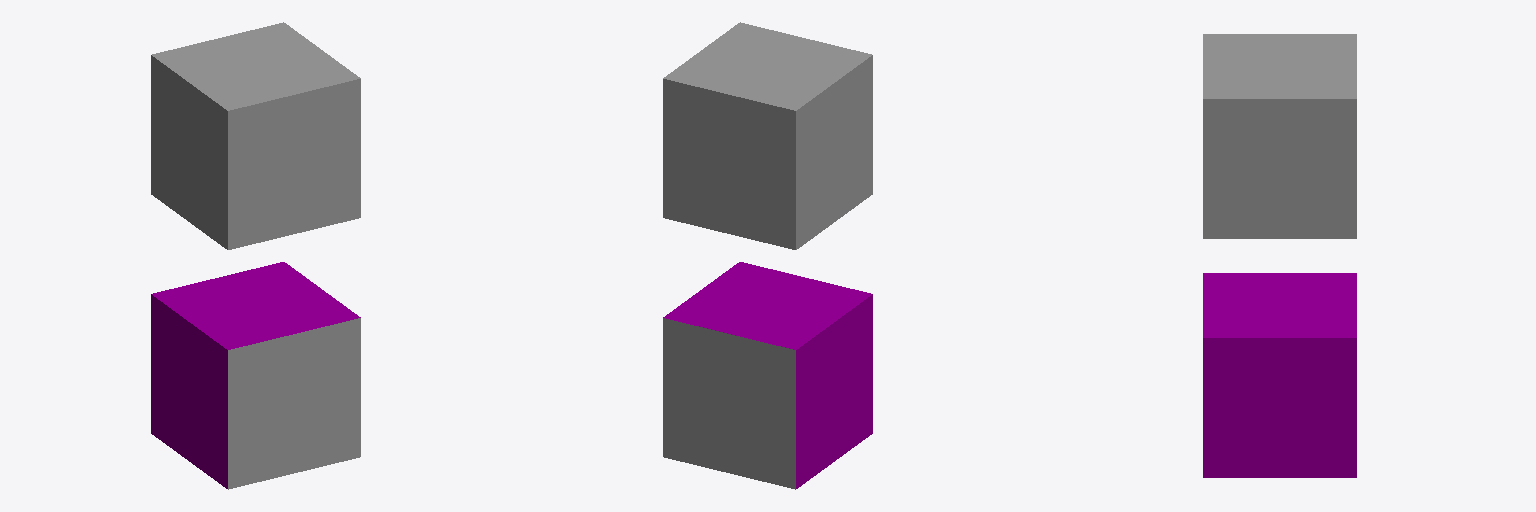
The model's file is dual_cube_different_normals.obj.
The picture shows the model from 3 angles: view 1: azimuth 30°, elevation 25°; view 2: azimuth 150°, elevation 25°; view 3: azimuth 270°, elevation 25°; orthographic projection.
Visible parts, largest first — view 1: Cube.001; view 2: Cube.001; view 3: Cube.001.
Boxes of the visible parts, <box> form: Cube.001: <box>151,22,360,489</box>; Cube.001: <box>663,22,872,489</box>; Cube.001: <box>1203,34,1356,477</box>.
Size of the model in its own units: 2 by 5.43 by 2.